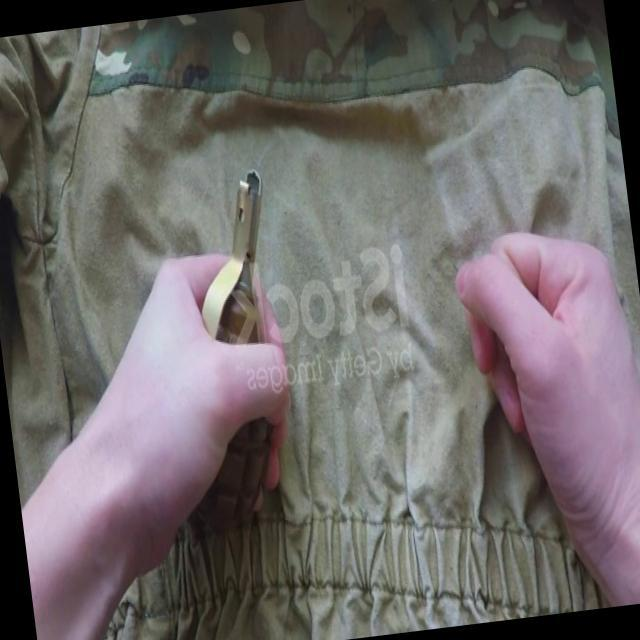grenade: (154, 162, 302, 540)
